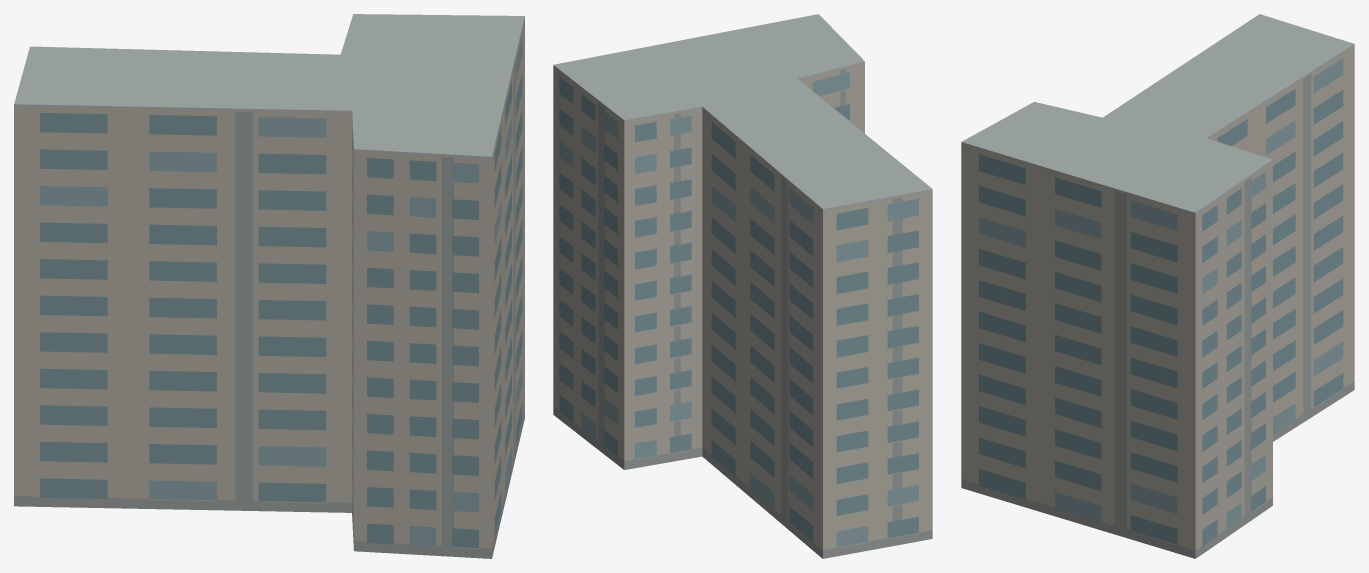
Rendered from residential-4b24754c-7b64-437a-983e-b1b39a6e28e0.glb.
The picture shows the model from 3 angles, left to right: view 1: azimuth 30°, elevation 25°; view 2: azimuth 150°, elevation 25°; view 3: azimuth 270°, elevation 25°; orthographic projection. The views are drawn at different scales.
Visible parts, largest first — view 1: residential-4b24754c-7b64-437a-983e-b1b39a6e28e0.tmp; view 2: residential-4b24754c-7b64-437a-983e-b1b39a6e28e0.tmp; view 3: residential-4b24754c-7b64-437a-983e-b1b39a6e28e0.tmp.
Boxes of the visible parts, x1,y1,x2,y2 form: residential-4b24754c-7b64-437a-983e-b1b39a6e28e0.tmp: (14,14,524,558); residential-4b24754c-7b64-437a-983e-b1b39a6e28e0.tmp: (553,14,932,558); residential-4b24754c-7b64-437a-983e-b1b39a6e28e0.tmp: (961,14,1354,558).
Size of the model in its own units: 38.21 by 31 by 31.95.
